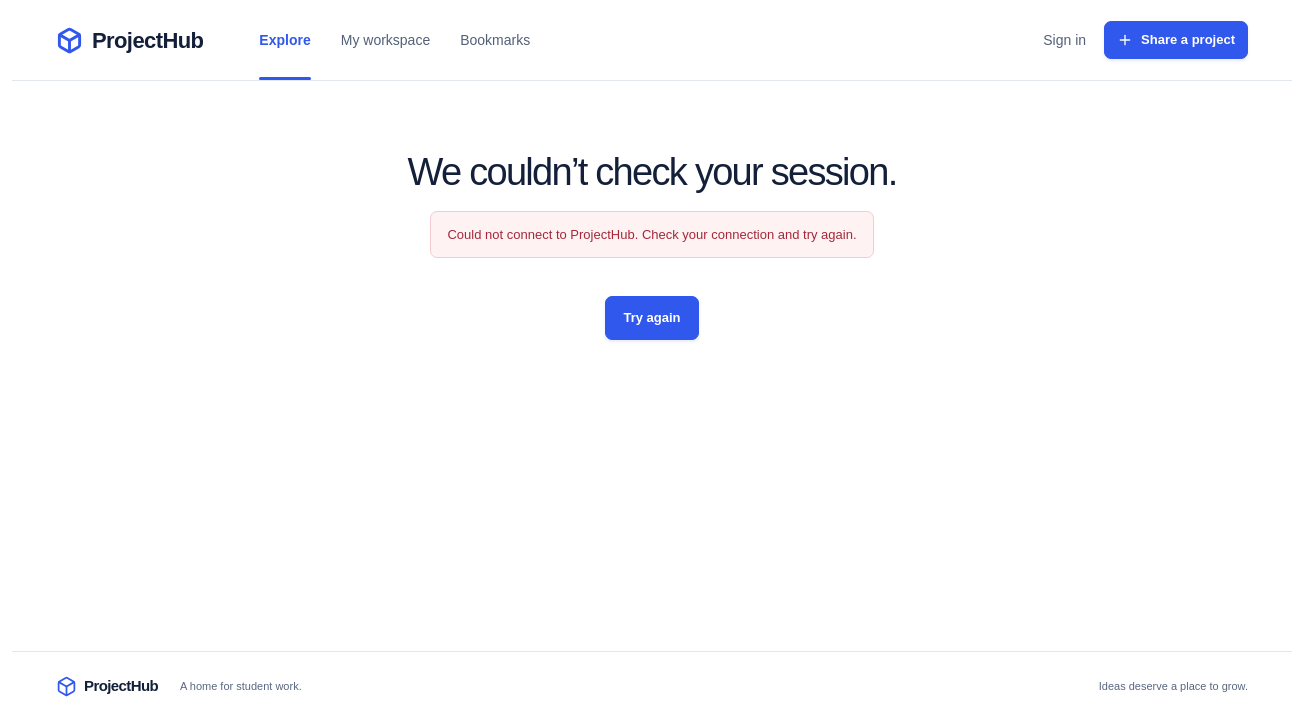
session transport failures show retry rather than asking a signed-in user to sign in again
This screenshot has width=1292, height=720.
Check: the heading "We couldn’t check your session." is shown, box [407,151,896,195]
Click the button "Try again": (652,318) [606,296,699,340]
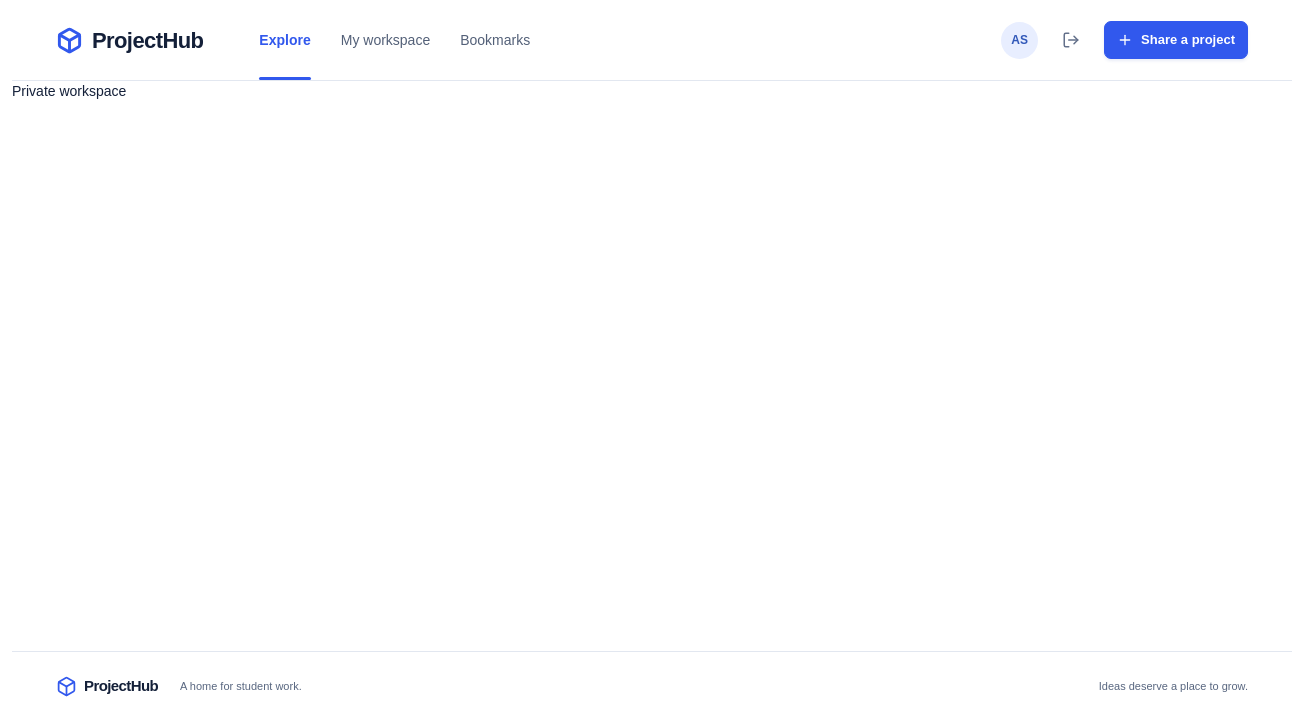
Check: the text "Private workspace" is shown, box [12,83,126,99]
